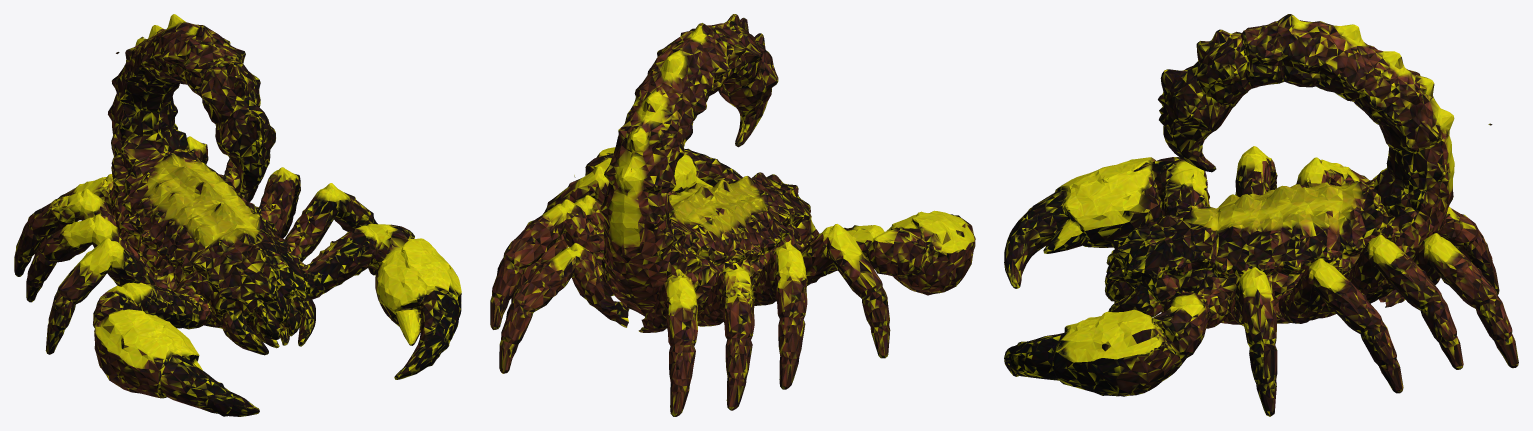
File: escorpião_amarelo.glb
3 views of the same model, side by side, from view 1: azimuth 30°, elevation 25°; view 2: azimuth 150°, elevation 25°; view 3: azimuth 270°, elevation 25° (orthographic). The views are drawn at different scales.
Visible parts, largest first — view 1: tmp4utfgyb2.ply; view 2: tmp4utfgyb2.ply; view 3: tmp4utfgyb2.ply.
Boxes of the visible parts, left/top/right/bottom form: tmp4utfgyb2.ply: left=14, top=14, right=461, bottom=416; tmp4utfgyb2.ply: left=490, top=14, right=975, bottom=416; tmp4utfgyb2.ply: left=1004, top=14, right=1518, bottom=416.
Size of the model in its own units: 1.93 by 1.53 by 2.24.
Materials: 1 (1 with a texture image).
